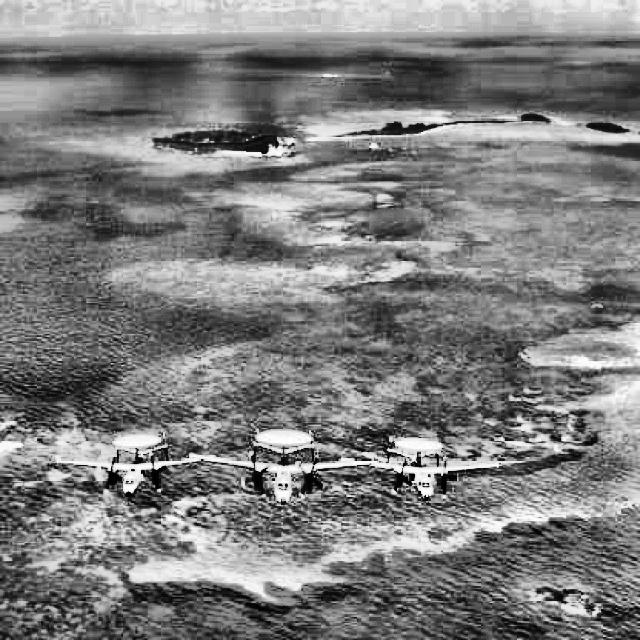E2: (190, 428, 378, 506), (56, 432, 215, 497), (341, 437, 499, 500)
